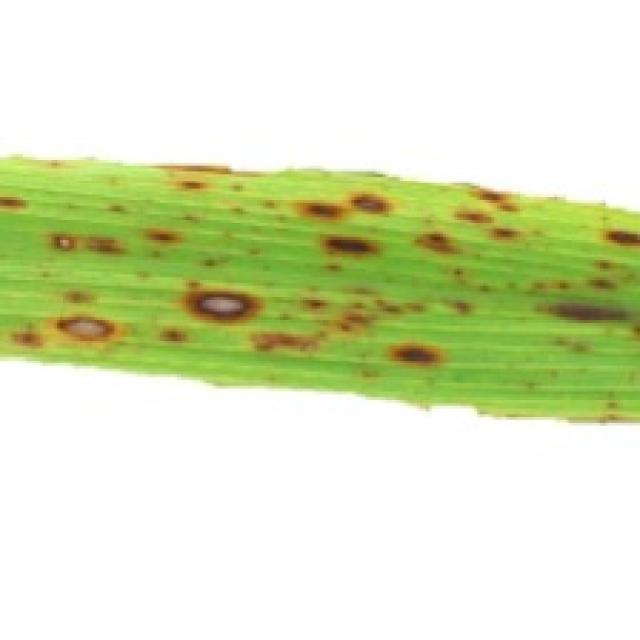Rice___Brown_Spot: (0, 153, 637, 422)
